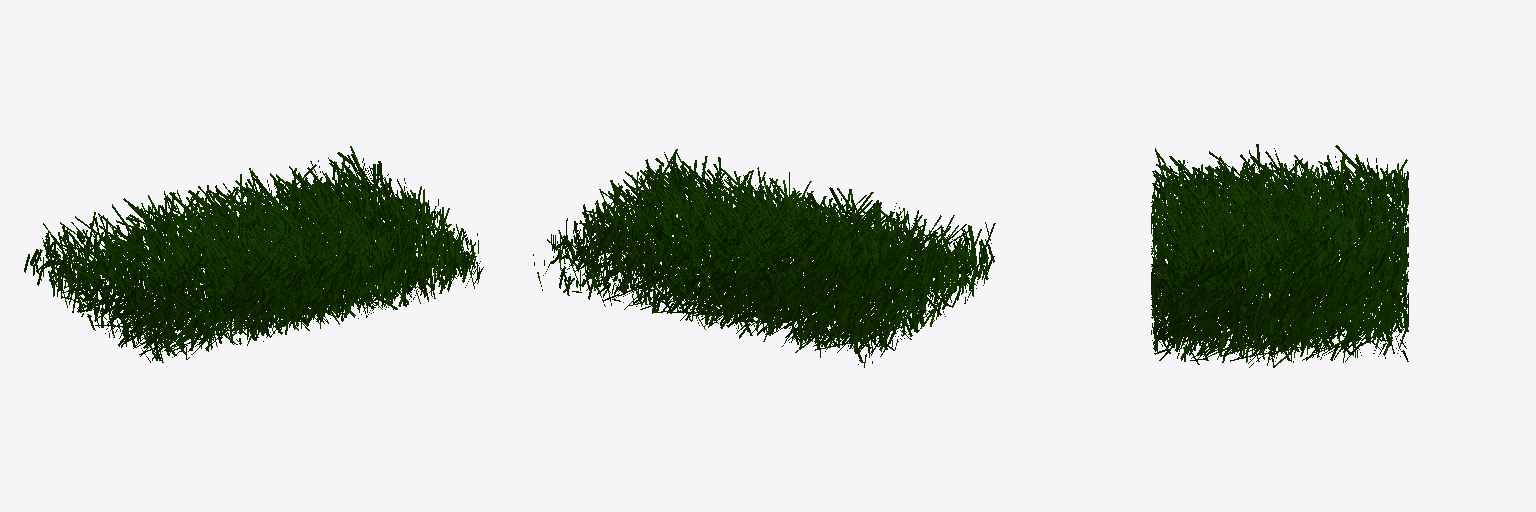
The model's file is grass.obj.
3 renders of one model, left to right at view 1: azimuth 30°, elevation 25°; view 2: azimuth 150°, elevation 25°; view 3: azimuth 270°, elevation 25°, orthographic.
Parts seen in each view (by area): view 1: weed14.weed15.weed16.weed17.weed18.weed19.weed20.weed21_weed14; view 2: weed14.weed15.weed16.weed17.weed18.weed19.weed20.weed21_weed14; view 3: weed14.weed15.weed16.weed17.weed18.weed19.weed20.weed21_weed14.
Boxes of the visible parts, x1=… form: weed14.weed15.weed16.weed17.weed18.weed19.weed20.weed21_weed14: x1=24, y1=146, x2=483, y2=362; weed14.weed15.weed16.weed17.weed18.weed19.weed20.weed21_weed14: x1=533, y1=149, x2=995, y2=367; weed14.weed15.weed16.weed17.weed18.weed19.weed20.weed21_weed14: x1=1151, y1=144, x2=1408, y2=367.
Bounding box in the file's own units: 38.74 × 6.01 × 25.05.